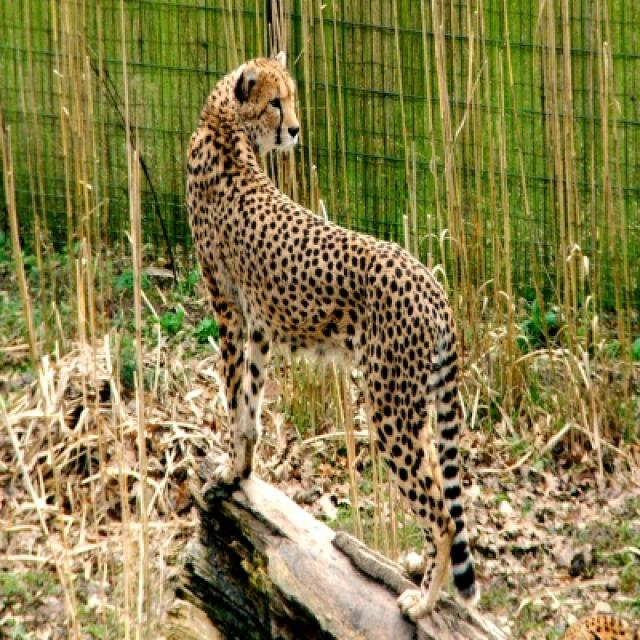Cheetah: (189, 56, 475, 597)
